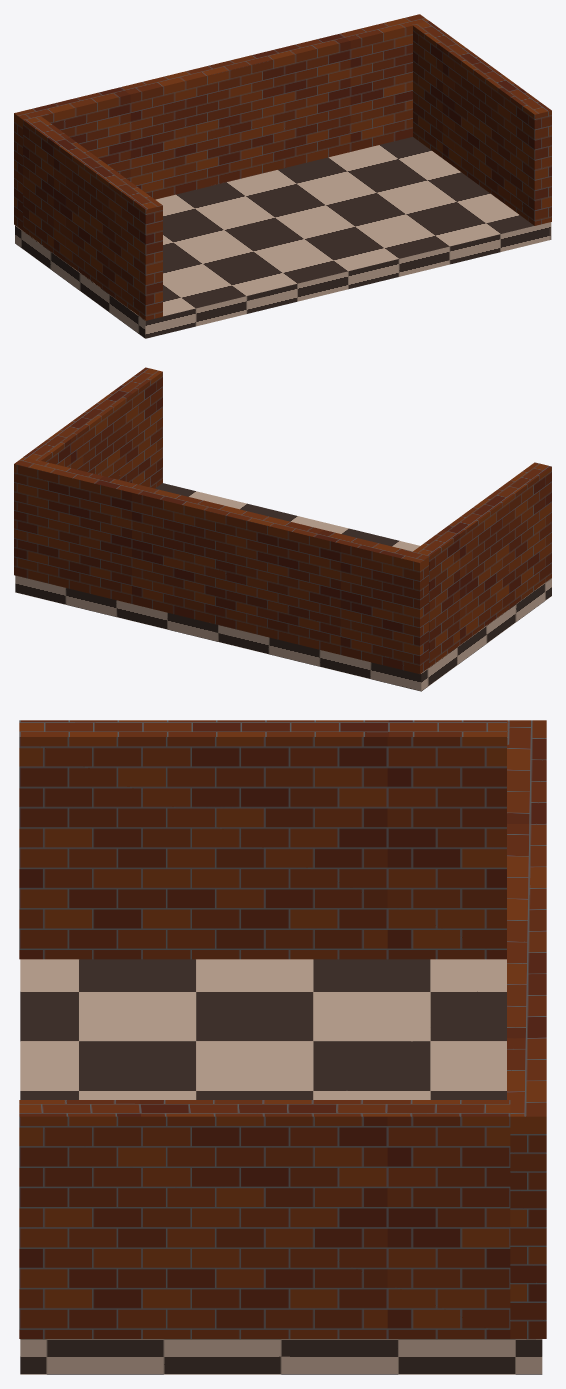
File: Walls.gltf
3 views of the same model, one above another, from view 1: azimuth 30°, elevation 25°; view 2: azimuth 150°, elevation 25°; view 3: azimuth 270°, elevation 25° (orthographic). The views are drawn at different scales.
Visible parts, largest first — view 1: Walls, Back, Left, Right; view 2: Back, Left, Walls, Right; view 3: Right, Left, Walls, Back.
Boxes of the visible parts, x1,y1,x2,y2 form: Walls: (15, 137, 551, 338); Back: (14, 14, 428, 230); Left: (23, 116, 162, 320); Right: (412, 21, 551, 225); Back: (14, 457, 429, 674); Left: (413, 462, 551, 667); Walls: (15, 483, 551, 691); Right: (23, 367, 162, 488); Right: (19, 1100, 510, 1338); Left: (19, 720, 506, 959); Walls: (20, 959, 542, 1374); Back: (507, 720, 546, 1338).
Bounding box in the file's own units: 7.65 × 2.32 × 4.3.
Materials: 2 (2 with a texture image).
